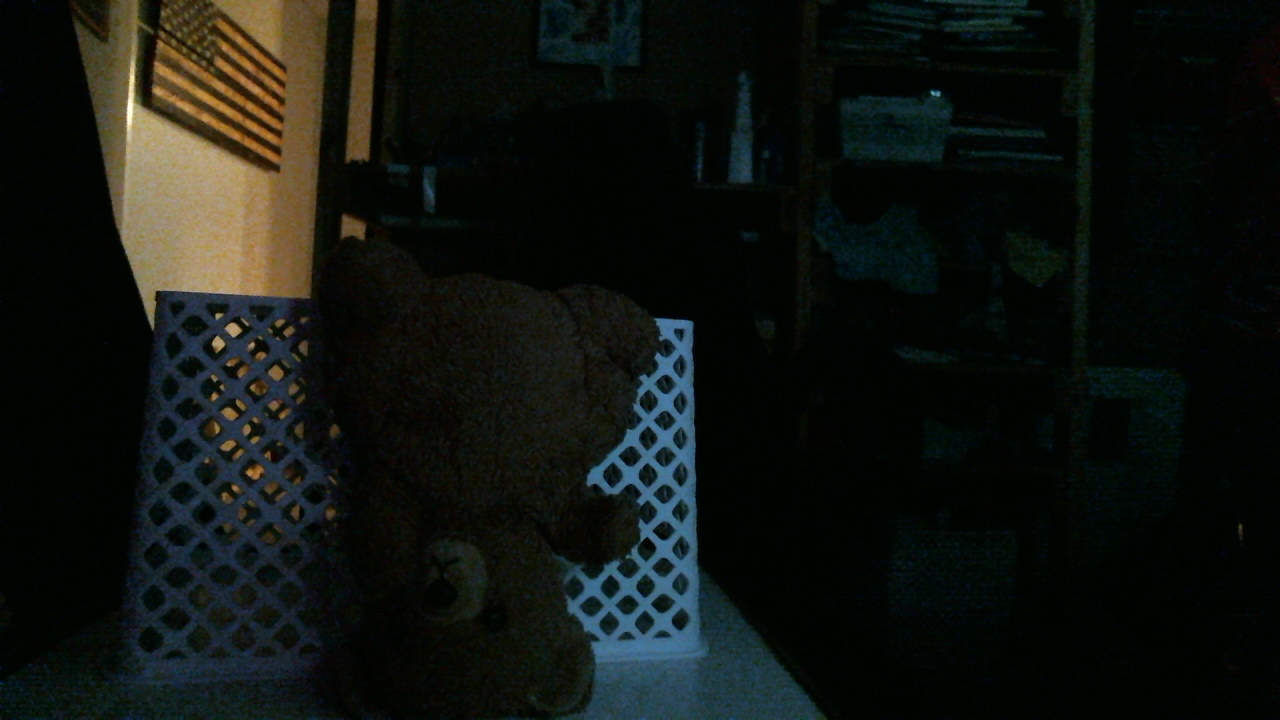Little_Mister_Bear: (403, 547, 514, 656)
